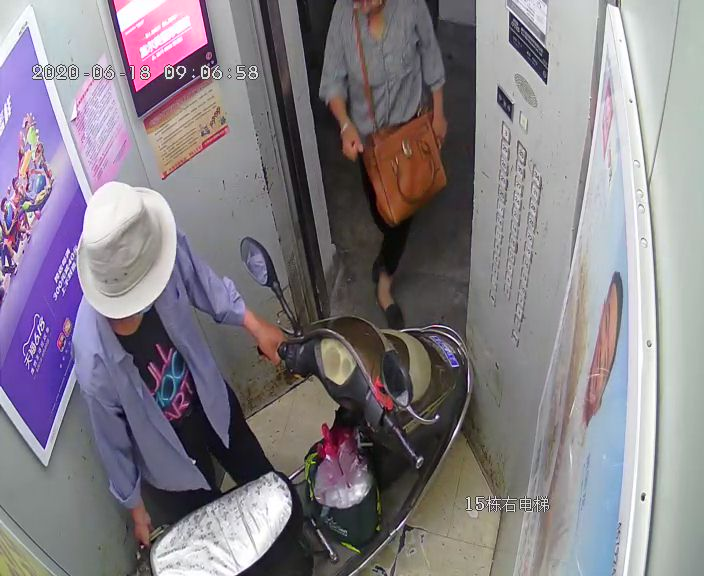Electric-bicycle: (130, 237, 470, 576)
